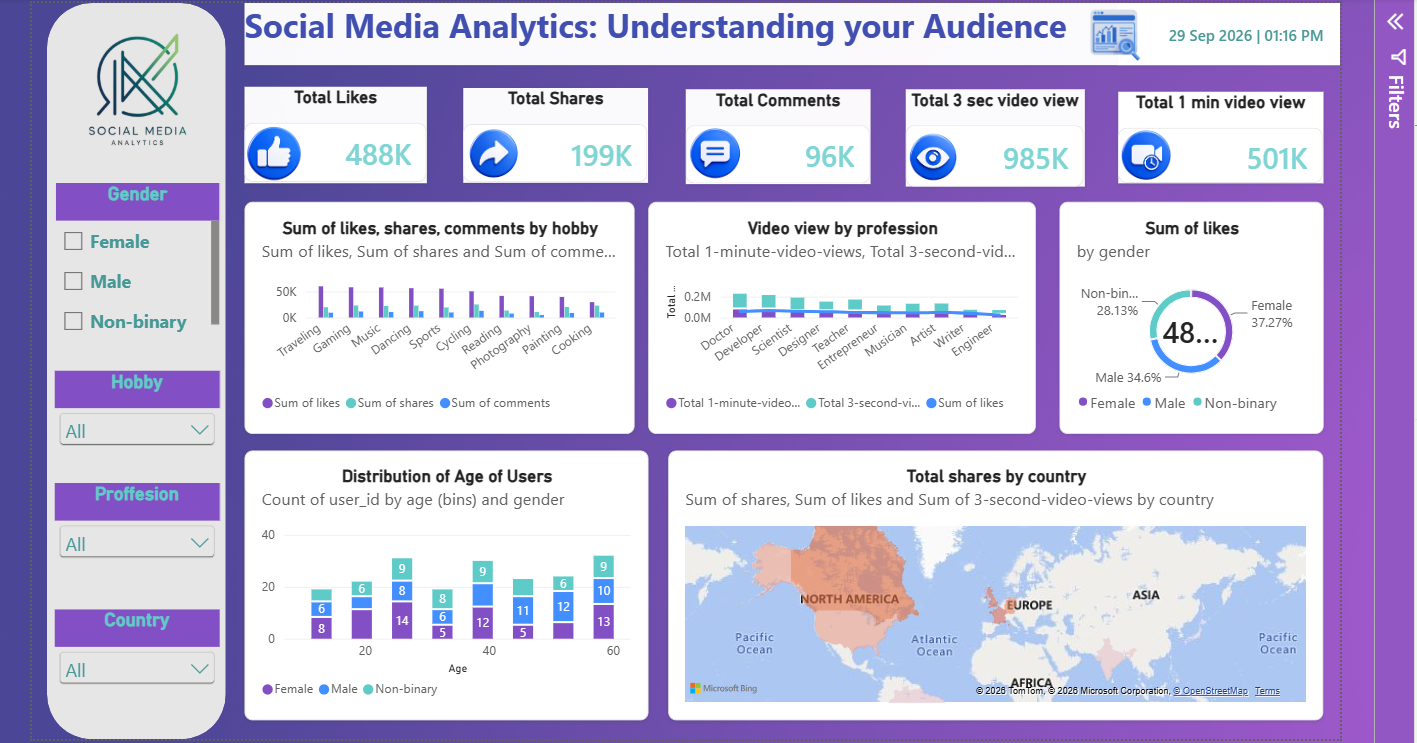

This screenshot's page, from the dashboard's own definition file:
{"tool":"powerbi","page":{"name":"Dashboard","canvas":[1280,720],"ordinal":0},"visuals":[{"type":"shape","box":[14.7,0,174.9,720.2],"z":1000},{"type":"textbox","box":[207.9,0,1072.4,61.1],"z":2000},{"type":"image","box":[3.7,8.6,199.3,151.6],"z":3000},{"type":"cardVisual","title":"Total Likes","fields":{"Data":["Sum(social_media_analysis.likes)"]},"box":[207.9,81.9,178.5,94.2],"z":4000},{"type":"cardVisual","title":"Total Shares","fields":{"Data":["Sum(social_media_analysis.shares)"]},"box":[421.9,83.2,181,92.9],"z":5000},{"type":"cardVisual","title":"Total Comments","fields":{"Data":["Sum(social_media_analysis.comments)"]},"box":[639.5,84.4,181,92.9],"z":6000},{"type":"cardVisual","title":"Total 1 min video view","fields":{"Data":["Sum(social_media_analysis.1-minute-video-views)"]},"box":[1062.6,86.8,200.5,89.3],"z":7000},{"type":"cardVisual","title":"Total 3 sec video view","fields":{"Data":["Sum(social_media_analysis.3-second-video-views)"]},"box":[854.8,84.4,174.9,95.4],"z":8000},{"type":"clusteredColumnChart","title":"Sum of likes, shares, comments by hobby","fields":{"Category":["social_media_analysis.hobby"],"Y":["Sum(social_media_analysis.likes)","Sum(social_media_analysis.shares)","Sum(social_media_analysis.comments)"]},"box":[207.9,194.4,381.5,227.4],"z":9000},{"type":"lineStackedColumnComboChart","title":"Video view by profession","fields":{"Category":["social_media_analysis.profession"],"Y":["Sum(social_media_analysis.1-minute-video-views)","Sum(social_media_analysis.3-second-video-views)"],"Y2":["Sum(social_media_analysis.likes)"]},"box":[602.9,194.4,379.1,227.4],"z":10000},{"type":"donutChart","fields":{"Category":["social_media_analysis.gender"],"Y":["Sum(social_media_analysis.likes)"]},"box":[1005.2,194.4,258,227.4],"z":11000},{"type":"columnChart","title":"Distribution of Age of Users","fields":{"Category":["social_media_analysis.age (bins)"],"Y":["CountNonNull(social_media_analysis.user_id)"],"Series":["social_media_analysis.gender"]},"box":[207.9,437.8,395,264.1],"z":12000},{"type":"slicer","title":"Gender","fields":{"Values":["social_media_analysis.gender"]},"box":[23.2,176.1,160.2,150.4],"z":13000},{"type":"slicer","title":"Hobby","fields":{"Values":["social_media_analysis.hobby"]},"box":[22,359.5,161.4,78.3],"z":14000},{"type":"slicer","title":"Proffesion","fields":{"Values":["social_media_analysis.profession"]},"box":[22,469.6,161.4,78.3],"z":15000},{"type":"filledMap","title":"Total shares by country","fields":{"Category":["social_media_analysis.country"]},"box":[622.4,437.8,640.8,264.1],"z":16000},{"type":"slicer","title":"Country","fields":{"Values":["social_media_analysis.country"]},"box":[22,593.1,161.4,78.3],"z":17000},{"type":"image","box":[421.9,97.8,59.9,100.3],"z":18000},{"type":"image","box":[639.5,105.2,57.5,84.4],"z":19000},{"type":"image","box":[854.8,107.6,53.8,86.8],"z":20000},{"type":"image","box":[1062.6,110.1,55,79.5],"z":21000},{"type":"image","box":[207.9,105.2,57.5,85.6],"z":22000},{"type":"cardVisual","fields":{"Data":["social_media_analysis.Last Update"]},"box":[1062.6,0,217.7,61.1],"z":23000},{"type":"image","box":[1032.1,0,53.8,61.1],"z":24000}]}

Visuals, with their boxes in screenshot pixels (x1, y1, x2, y2):
shape: {"x1": 48, "y1": 0, "x2": 226, "y2": 732}
textbox: {"x1": 244, "y1": 0, "x2": 1334, "y2": 62}
image: {"x1": 37, "y1": 9, "x2": 239, "y2": 163}
"Total Likes" cardVisual: {"x1": 244, "y1": 83, "x2": 426, "y2": 179}
"Total Shares" cardVisual: {"x1": 462, "y1": 85, "x2": 646, "y2": 179}
"Total Comments" cardVisual: {"x1": 683, "y1": 86, "x2": 867, "y2": 180}
"Total 1 min video view" cardVisual: {"x1": 1113, "y1": 88, "x2": 1316, "y2": 179}
"Total 3 sec video view" cardVisual: {"x1": 902, "y1": 86, "x2": 1079, "y2": 183}
"Sum of likes, shares, comments by hobby" clusteredColumnChart: {"x1": 244, "y1": 197, "x2": 632, "y2": 429}
"Video view by profession" lineStackedColumnComboChart: {"x1": 646, "y1": 197, "x2": 1031, "y2": 429}
donutChart - social_media_analysis.gender x Sum(social_media_analysis.likes): {"x1": 1054, "y1": 197, "x2": 1317, "y2": 429}
"Distribution of Age of Users" columnChart: {"x1": 244, "y1": 445, "x2": 646, "y2": 713}
"Gender" slicer: {"x1": 57, "y1": 179, "x2": 220, "y2": 332}
"Hobby" slicer: {"x1": 56, "y1": 365, "x2": 220, "y2": 445}
"Proffesion" slicer: {"x1": 56, "y1": 477, "x2": 220, "y2": 557}
"Total shares by country" filledMap: {"x1": 666, "y1": 445, "x2": 1317, "y2": 713}
"Country" slicer: {"x1": 56, "y1": 603, "x2": 220, "y2": 682}
image: {"x1": 462, "y1": 99, "x2": 523, "y2": 201}
image: {"x1": 683, "y1": 107, "x2": 741, "y2": 193}
image: {"x1": 902, "y1": 109, "x2": 956, "y2": 197}
image: {"x1": 1113, "y1": 112, "x2": 1169, "y2": 193}
image: {"x1": 244, "y1": 107, "x2": 303, "y2": 194}
cardVisual - social_media_analysis.Last Update: {"x1": 1113, "y1": 0, "x2": 1334, "y2": 62}
image: {"x1": 1082, "y1": 0, "x2": 1136, "y2": 62}
